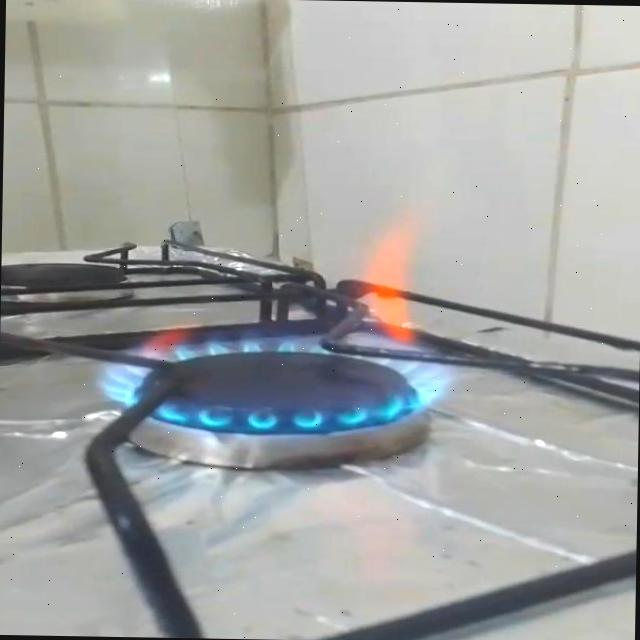fire: (96, 190, 472, 438)
